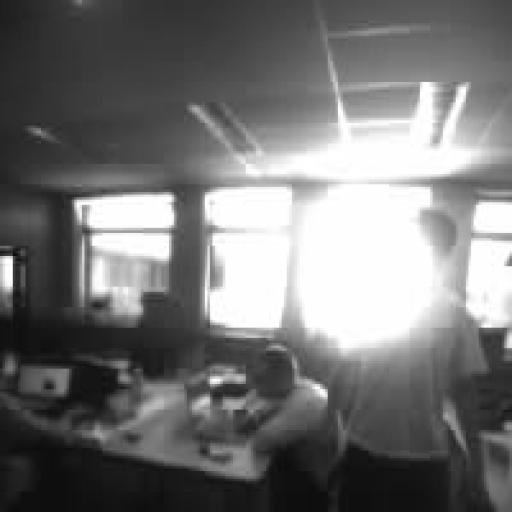human: (336, 208, 488, 511), (249, 344, 340, 509), (0, 392, 94, 511)
